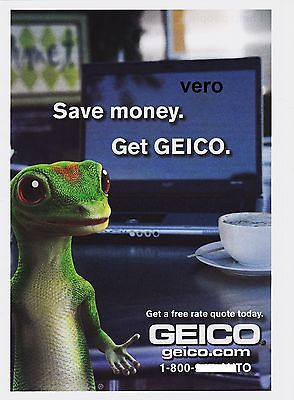Geico: (149, 322, 261, 346)
